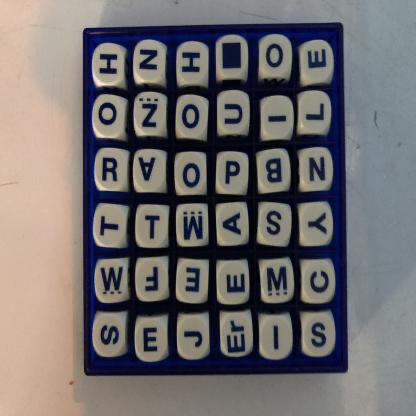a: (134, 152, 169, 194), (217, 206, 247, 247)
b: (257, 153, 290, 193)
c: (302, 262, 334, 303)
e: (136, 318, 169, 360), (179, 259, 209, 304), (301, 42, 333, 83), (218, 262, 249, 304)
er: (220, 313, 254, 357)
f: (138, 260, 167, 301)
h: (178, 44, 210, 87), (94, 45, 125, 84)
i: (260, 96, 295, 140), (260, 316, 293, 358)
j: (178, 316, 211, 358)
l: (298, 92, 332, 136)
m: (260, 261, 293, 301), (177, 207, 210, 246)
n: (299, 151, 331, 192), (135, 44, 165, 83)
o: (177, 97, 209, 141), (95, 96, 126, 139), (177, 154, 208, 196), (261, 36, 292, 77)
p: (218, 154, 250, 196)
r: (97, 150, 129, 192)
s: (302, 313, 335, 355), (260, 204, 291, 248), (96, 313, 127, 356)
t: (97, 204, 128, 247), (139, 207, 169, 248)
u: (218, 93, 250, 135)
w: (97, 260, 130, 302)
wild: (218, 37, 249, 77)
y: (300, 205, 332, 246)
z: (135, 94, 166, 136)
